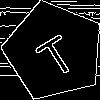T: (29, 26, 81, 81)
